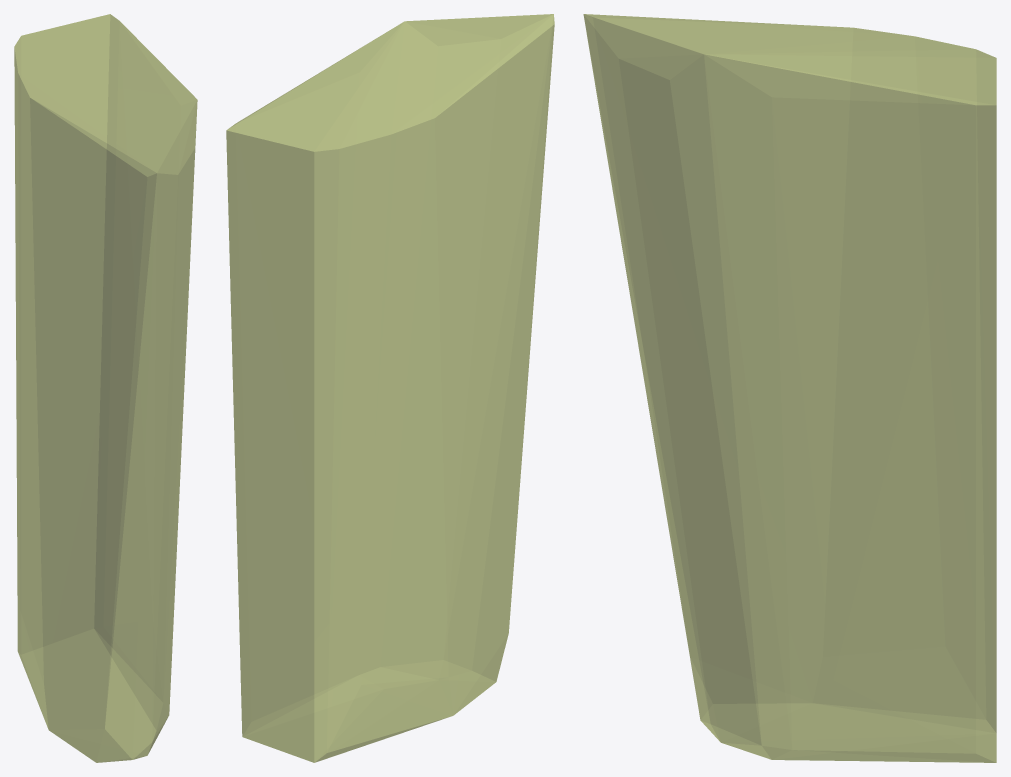
The picture shows the model from 3 angles, left to right: view 1: azimuth 30°, elevation 25°; view 2: azimuth 150°, elevation 25°; view 3: azimuth 270°, elevation 25°; orthographic projection. The views are drawn at different scales.
Visible parts, largest first — view 1: Shape_IndexedFaceSet.002_Shape_IndexedFaceSet.15984; view 2: Shape_IndexedFaceSet.002_Shape_IndexedFaceSet.15984; view 3: Shape_IndexedFaceSet.002_Shape_IndexedFaceSet.15984.
Part boxes in pixels (x1,y1,x2,y2): Shape_IndexedFaceSet.002_Shape_IndexedFaceSet.15984: (14, 14, 197, 762); Shape_IndexedFaceSet.002_Shape_IndexedFaceSet.15984: (226, 14, 554, 762); Shape_IndexedFaceSet.002_Shape_IndexedFaceSet.15984: (583, 14, 996, 762).
Bounding box in the file's own units: 0.063 × 0.2655 × 0.1398.
